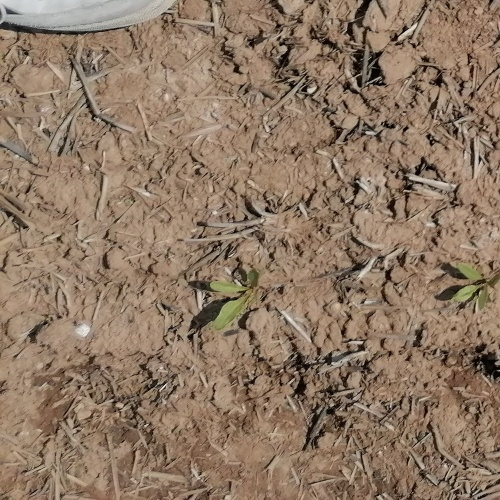beet: (208, 266, 265, 329), (448, 260, 500, 304)
